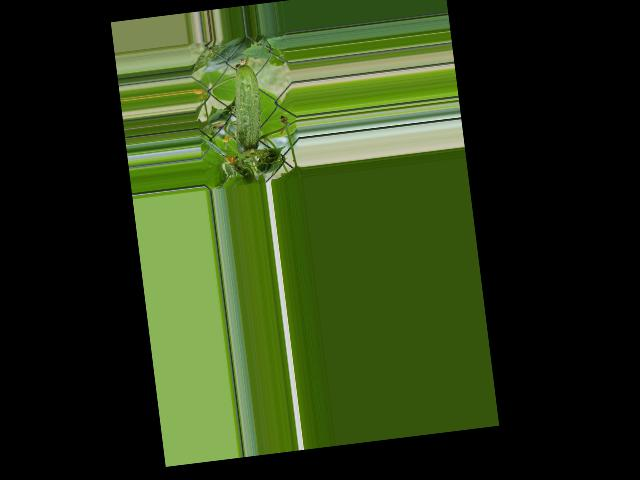cucumber: (227, 57, 266, 158)
